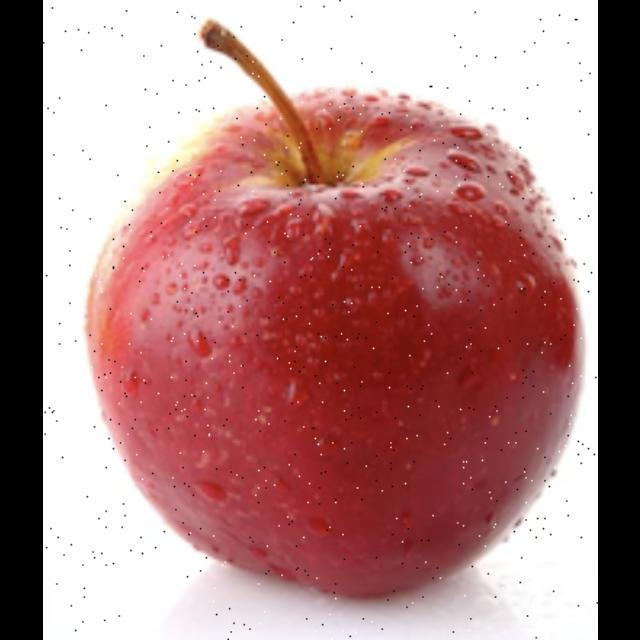Apel Segar: (71, 13, 597, 613)
